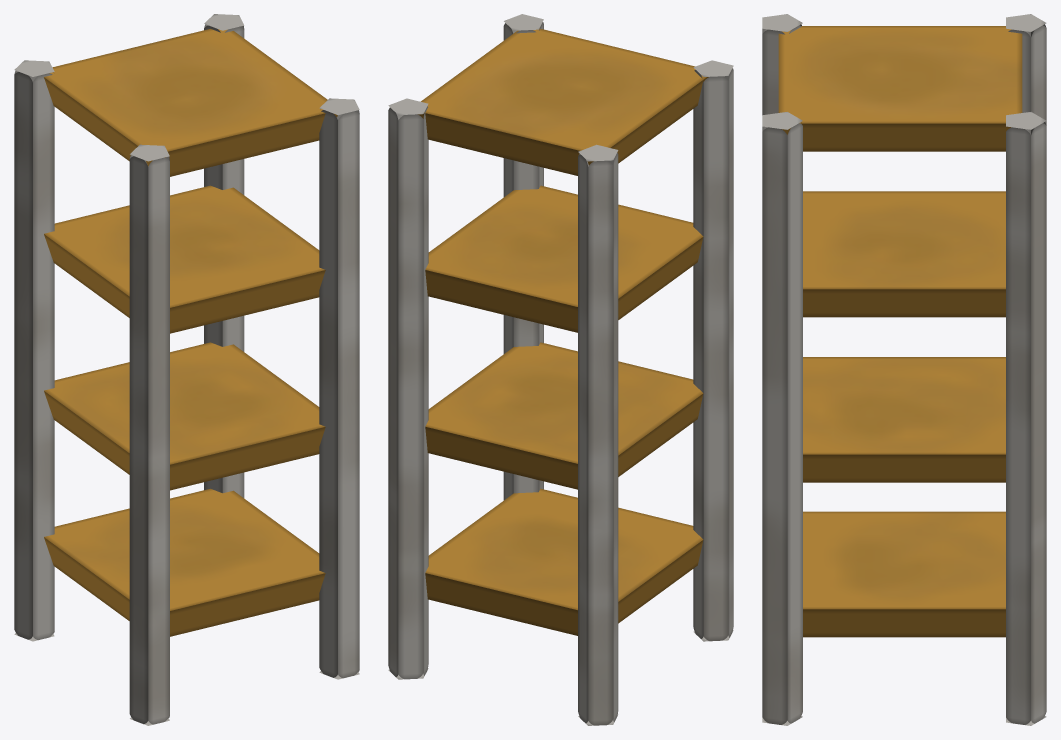
File: table2.fbx
3 views of the same model, side by side, from view 1: azimuth 30°, elevation 25°; view 2: azimuth 150°, elevation 25°; view 3: azimuth 270°, elevation 25° (orthographic). The views are drawn at different scales.
Visible parts, largest first — view 1: cuboid_3, cylinder_2, cylinder_1, cylinder_3, cuboid_1, cuboid_2, cuboid, cylinder; view 2: cuboid_3, cylinder_3, cylinder, cylinder_2, cuboid, cuboid_2, cuboid_1, cylinder_1; view 3: cuboid_3, cuboid, cuboid_2, cuboid_1, cylinder_1, cylinder, cylinder_3, cylinder_2.
Part boxes in pixels (bbox=[...]): cuboid_3: bbox=[44, 29, 337, 176]; cylinder_2: bbox=[129, 144, 169, 725]; cylinder_1: bbox=[319, 98, 359, 679]; cylinder_3: bbox=[14, 60, 54, 641]; cuboid_1: bbox=[44, 342, 325, 490]; cuboid_2: bbox=[44, 185, 325, 333]; cuboid: bbox=[44, 488, 325, 636]; cylinder: bbox=[204, 14, 244, 497]; cuboid_3: bbox=[417, 28, 708, 175]; cylinder_3: bbox=[578, 144, 618, 725]; cylinder: bbox=[388, 98, 428, 679]; cylinder_2: bbox=[693, 60, 733, 641]; cuboid: bbox=[425, 488, 703, 635]; cuboid_2: bbox=[425, 185, 703, 332]; cuboid_1: bbox=[425, 342, 703, 489]; cylinder_1: bbox=[503, 14, 543, 500]; cuboid_3: bbox=[778, 26, 1022, 151]; cuboid: bbox=[803, 511, 1005, 637]; cuboid_2: bbox=[803, 191, 1005, 317]; cuboid_1: bbox=[803, 357, 1005, 482]; cylinder_1: bbox=[762, 112, 802, 725]; cylinder: bbox=[1006, 112, 1046, 725]; cylinder_3: bbox=[1006, 14, 1046, 125]; cylinder_2: bbox=[762, 14, 802, 115].
Bounding box in the file's own units: 141 × 338 × 146.
1 material, 1 textured.
